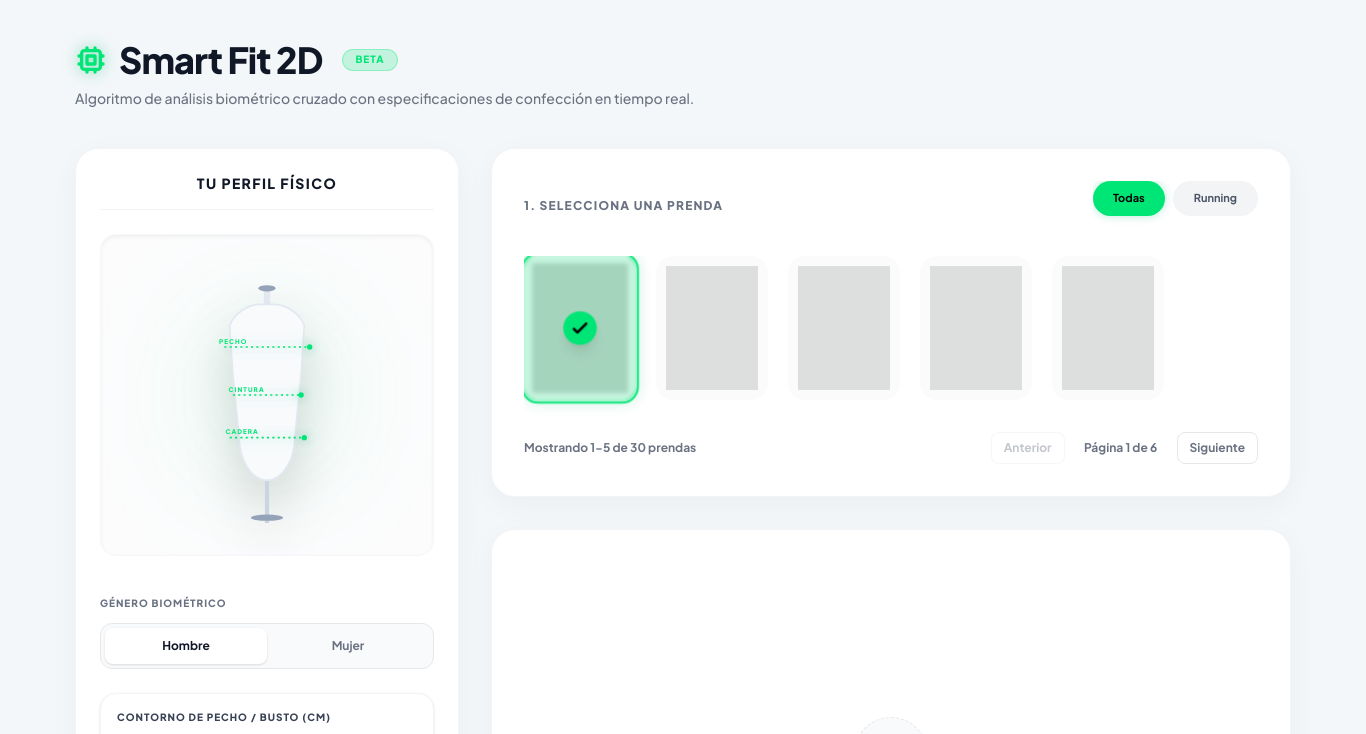
Scenario: ProbadorVirtual › shows five garments and lets the user move to the next page
The width and height of the screenshot is (1366, 734).
Expected: the text "Mostrando 1-5 de 30 prendas" is shown, x1=524 y1=440 x2=696 y2=456
Click the button with aria-label "Prendas siguientes". click: (1217, 448)
box: x1=1176 y1=432 x2=1258 y2=464
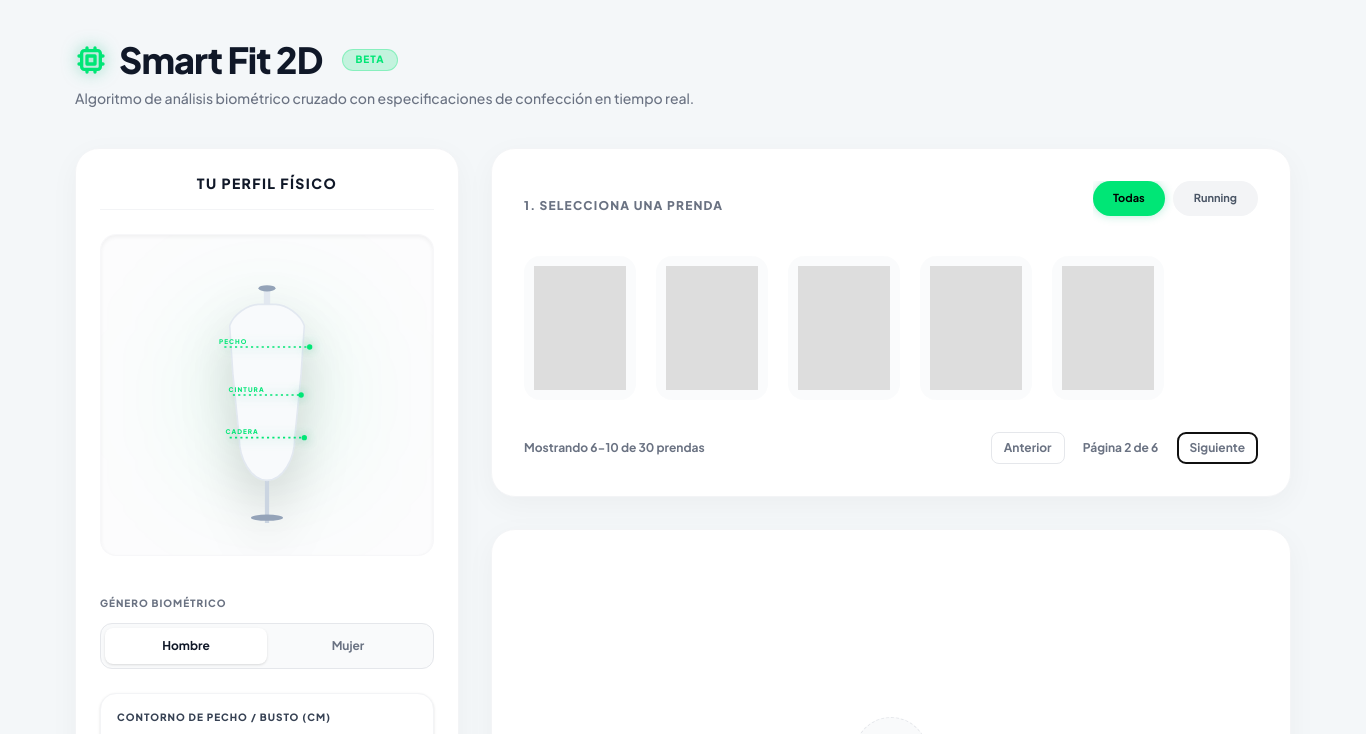
Expected: the text "Mostrando 6-10 de 30 prendas" is shown, x1=524 y1=440 x2=705 y2=456
